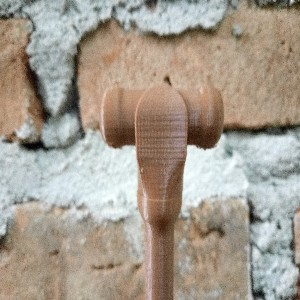palu: (101, 80, 225, 300)
